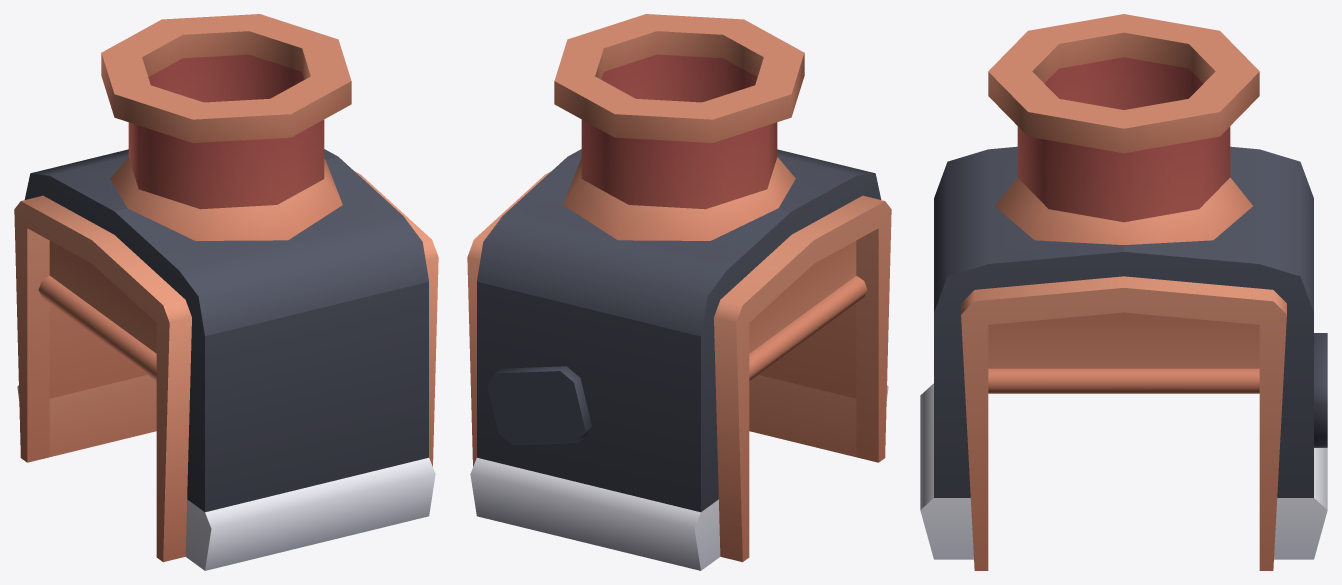
The model's file is machine-connection-pipe.obj.
3 views of the same model, side by side, from view 1: azimuth 30°, elevation 25°; view 2: azimuth 150°, elevation 25°; view 3: azimuth 270°, elevation 25° (orthographic). The views are drawn at different scales.
Visible parts, largest first — view 1: machine-connection-pipe; view 2: machine-connection-pipe; view 3: machine-connection-pipe.
Part boxes in pixels (box(x1,y1,x2,y2)): machine-connection-pipe: box(14, 14, 438, 570); machine-connection-pipe: box(467, 14, 891, 570); machine-connection-pipe: box(920, 14, 1327, 570).
Bounding box in the file's own units: 1.2 × 1.75 × 1.5.
